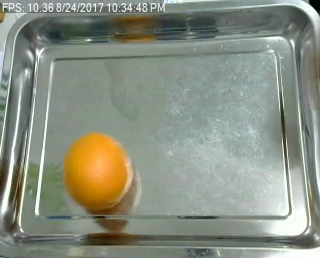Orange: (62, 131, 134, 211)
